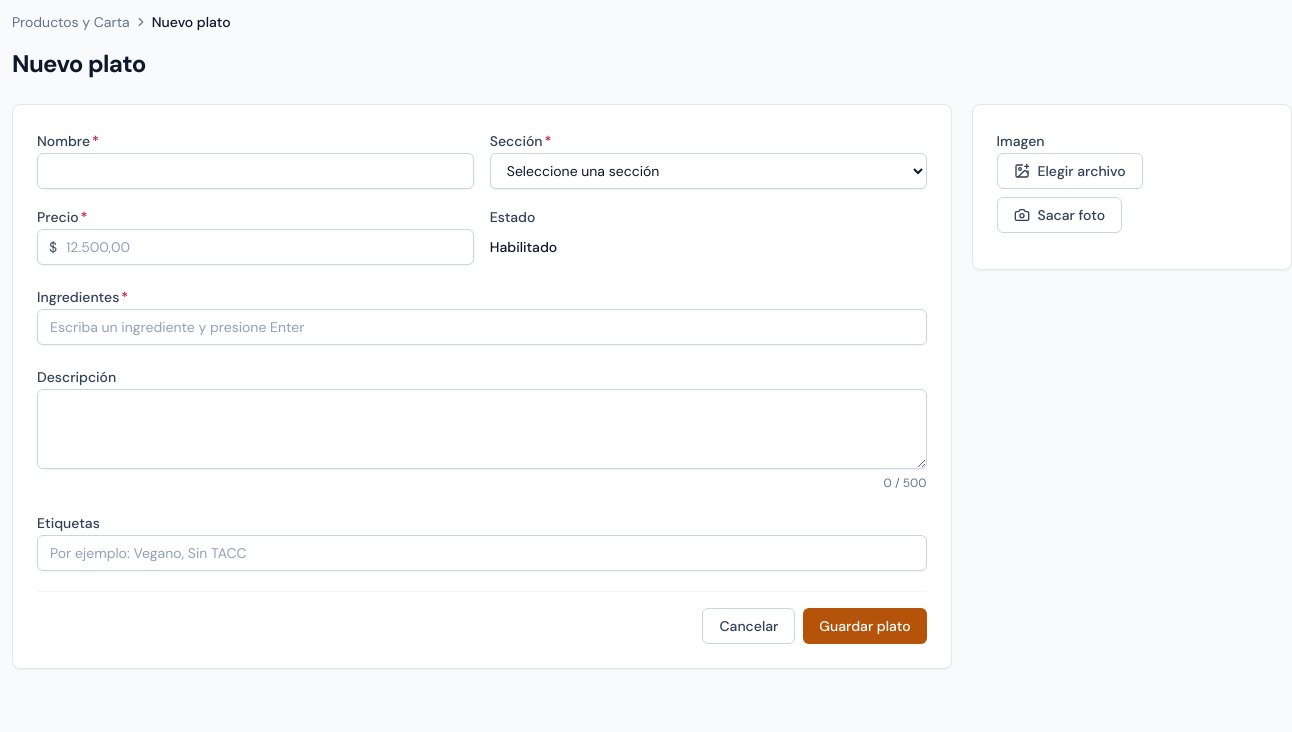
Scenario: ProductoNuevoPage PLATO: formulario › rechaza un ingrediente repetido (CA 6)
Check: the field labelled "Nombre*" is shown, box [37, 153, 474, 189]
Type "Huevo" into the field labelled "Ingredientes*" at (482, 327), box [37, 309, 926, 345]
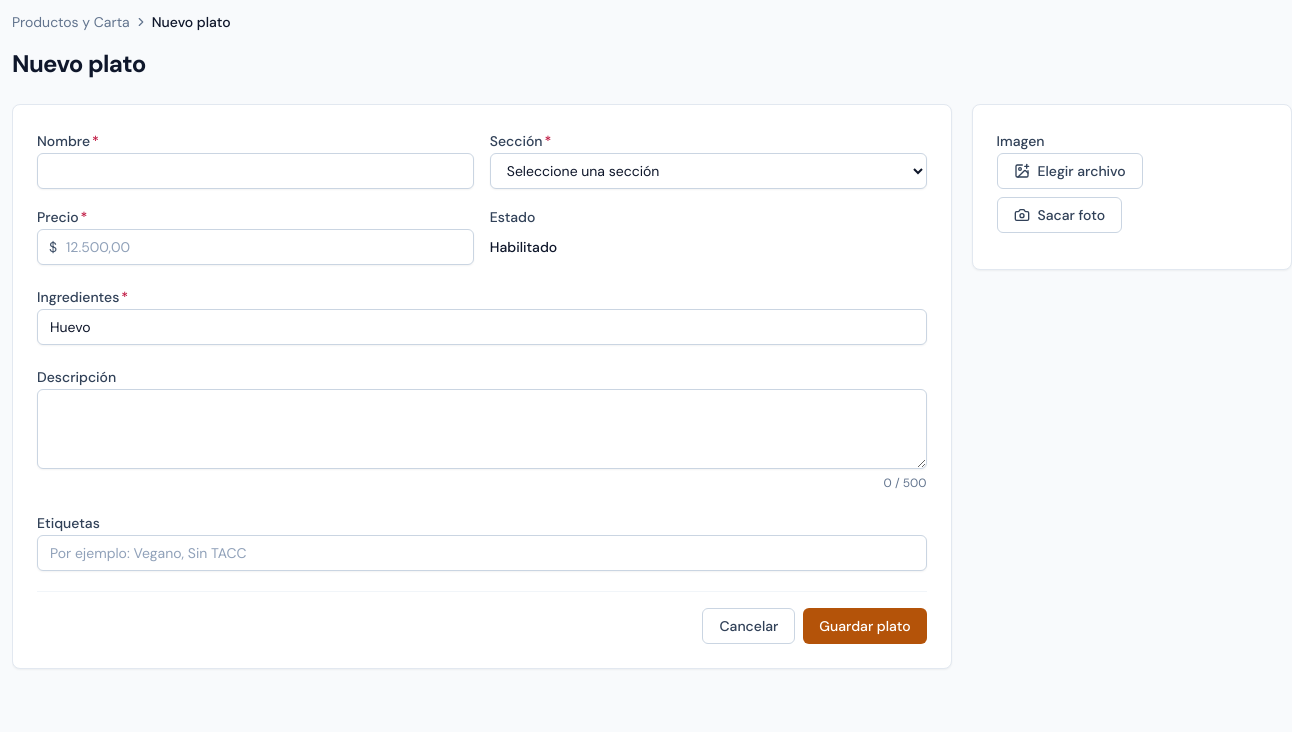
Press Enter in the field labelled "Ingredientes*", box [37, 309, 926, 345]
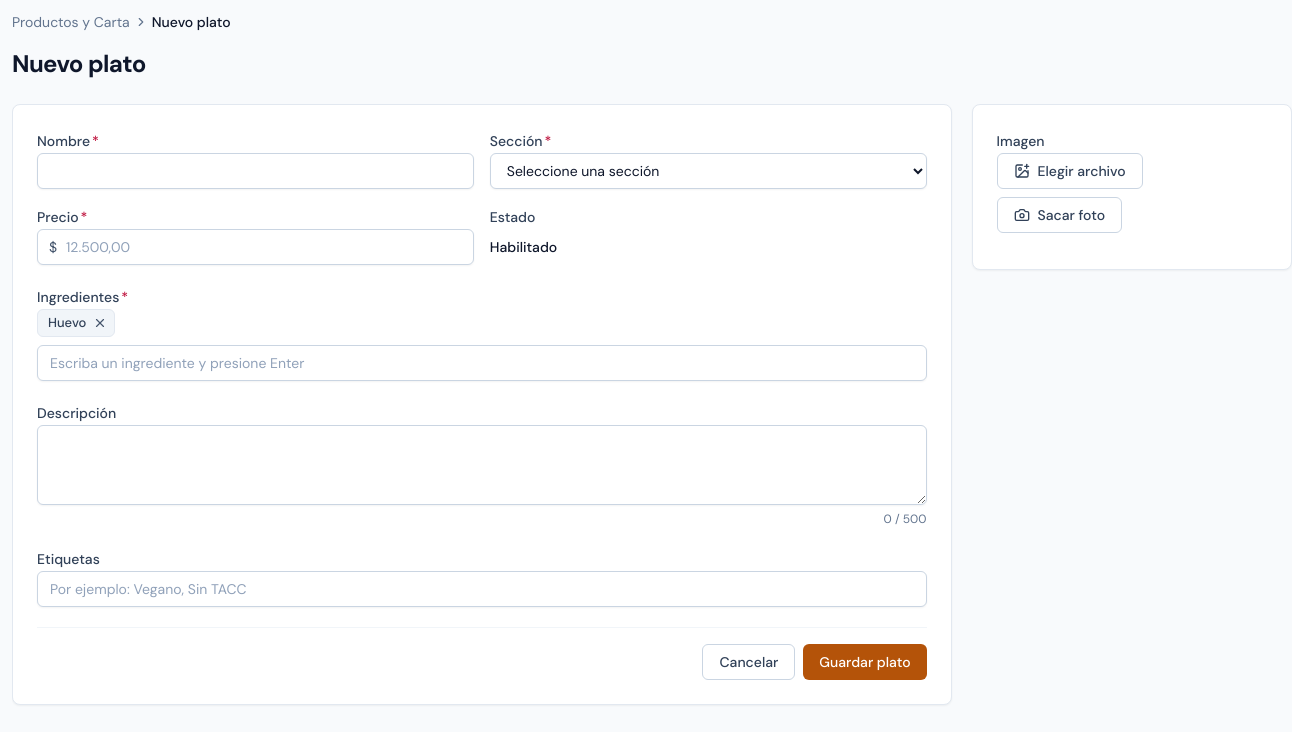
Type "huevo" into the field labelled "Ingredientes*" at (482, 363), box [37, 345, 926, 381]
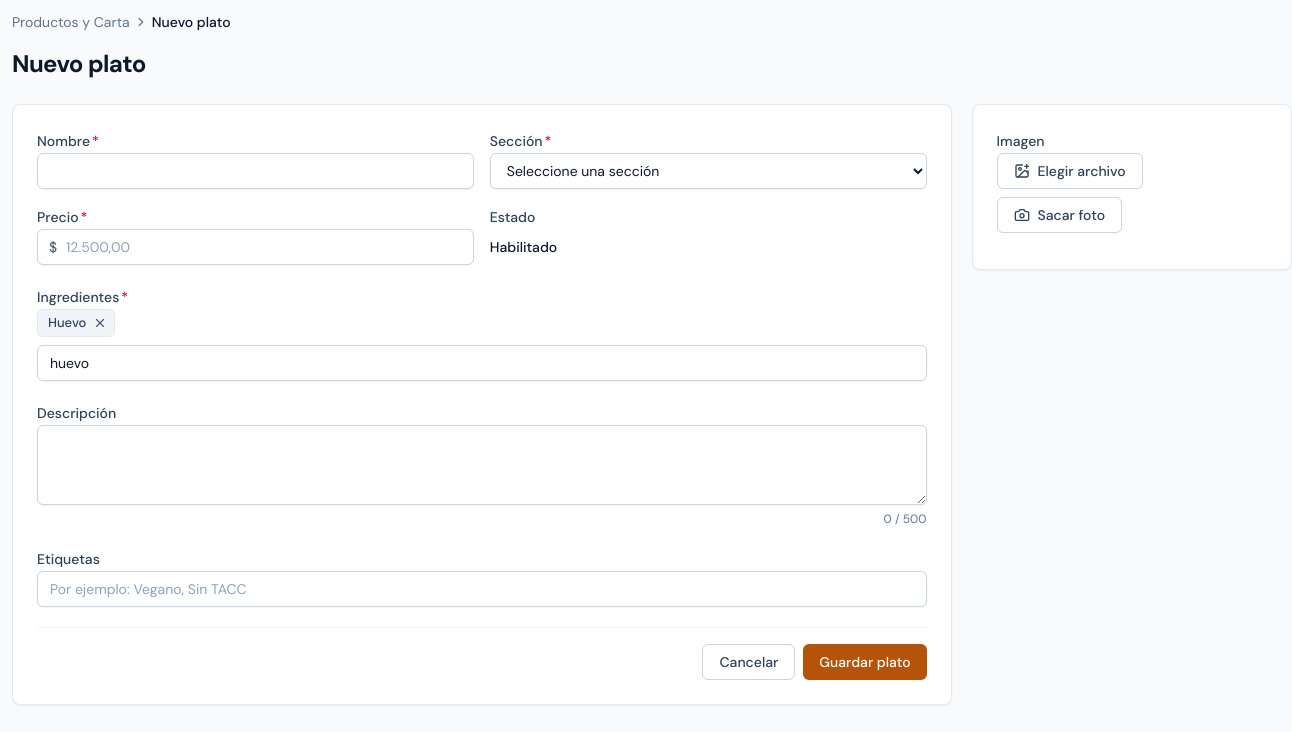
Press Enter in the field labelled "Ingredientes*", box [37, 345, 926, 381]
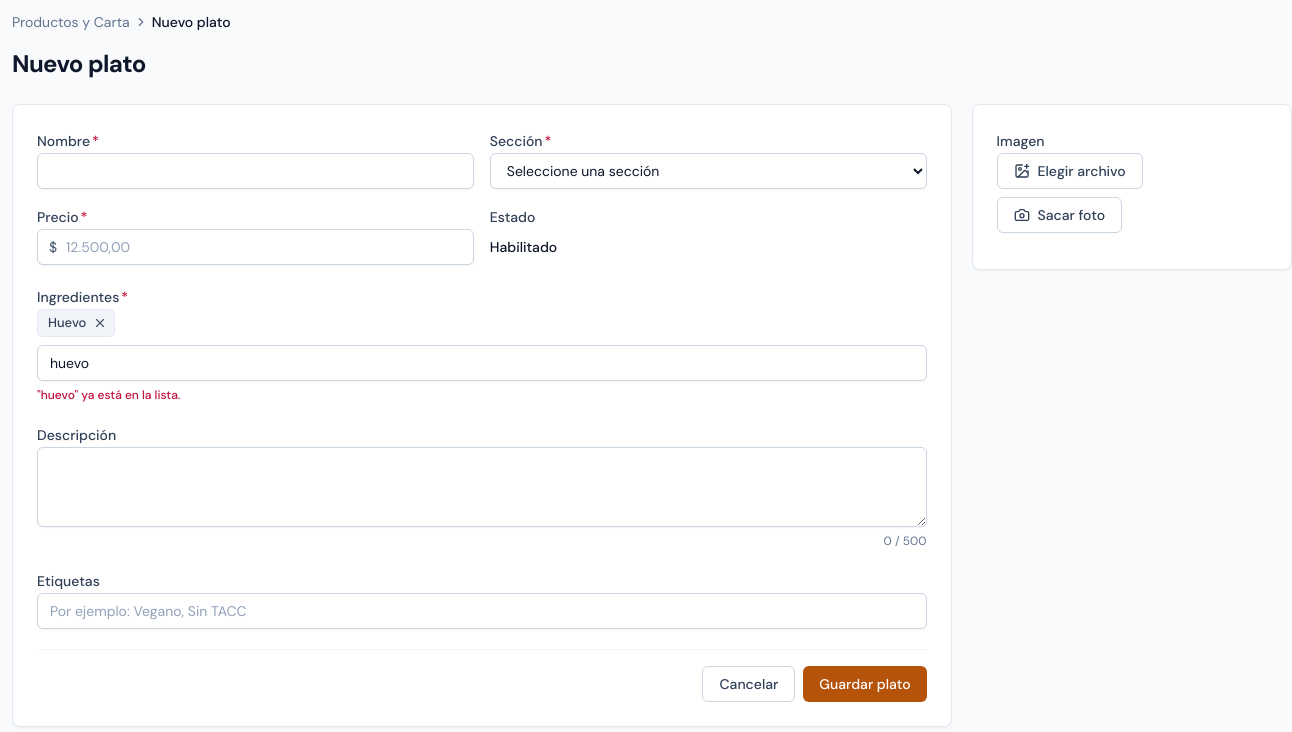
Check: the text "\"huevo\" ya está en la lista." is shown, box [37, 387, 180, 403]
